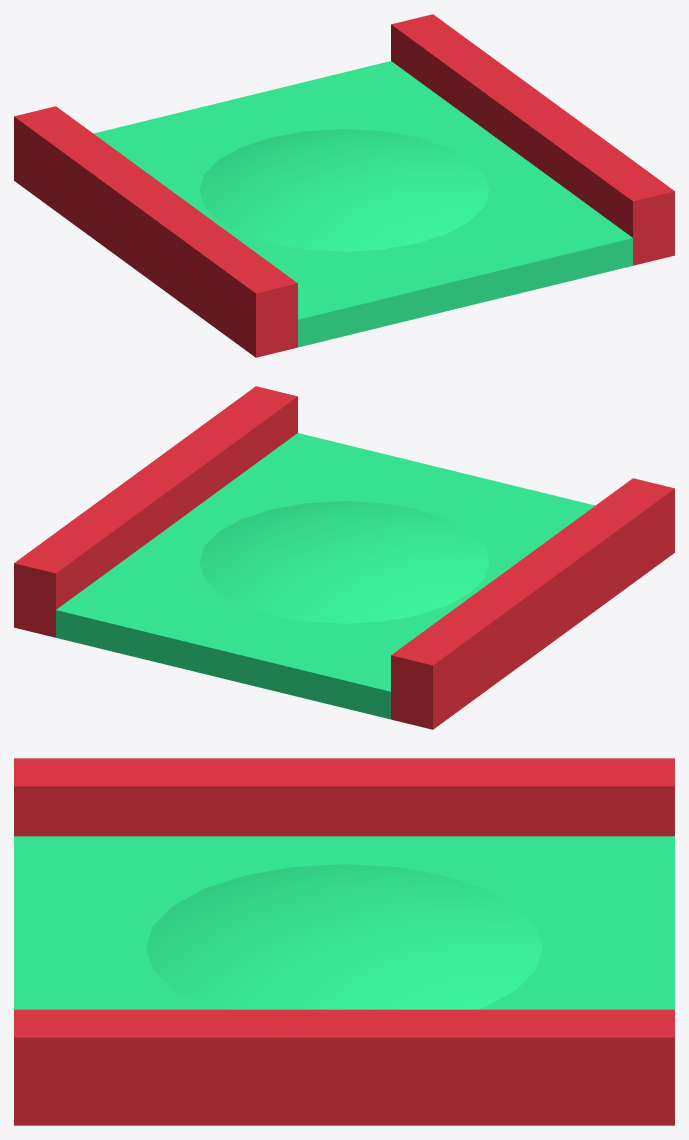
File: bumpWalls.fbx
The picture shows the model from 3 angles, top to bottom: view 1: azimuth 30°, elevation 25°; view 2: azimuth 150°, elevation 25°; view 3: azimuth 270°, elevation 25°; orthographic projection. The views are drawn at different scales.
Parts seen in each view (by area): view 1: bumpWalls; view 2: bumpWalls; view 3: bumpWalls.
Boxes of the visible parts, x1,y1,x2,y2 form: bumpWalls: [14, 14, 674, 357]; bumpWalls: [14, 386, 674, 729]; bumpWalls: [14, 758, 674, 1125].
Bounding box in the file's own units: 10 × 1.47 × 10.
